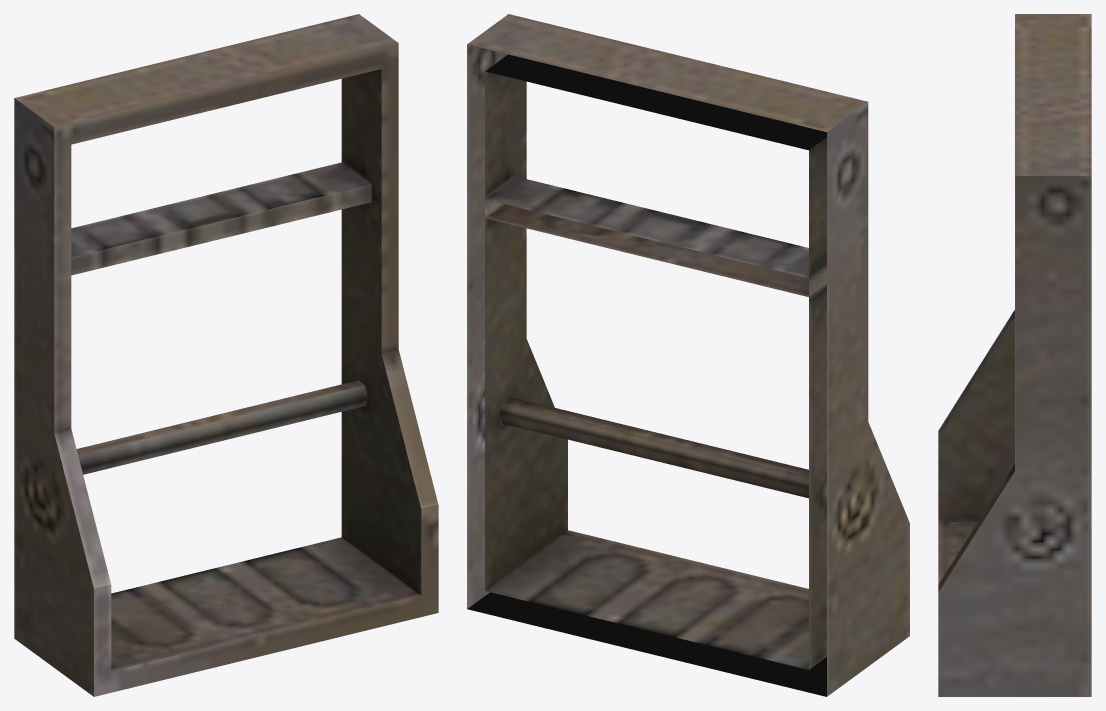
File: gun_rack.fbx
3 views of the same model, side by side, from view 1: azimuth 30°, elevation 25°; view 2: azimuth 150°, elevation 25°; view 3: azimuth 270°, elevation 25° (orthographic). The views are drawn at different scales.
Visible parts, largest first — view 1: mesh_0; view 2: mesh_0; view 3: mesh_0.
Part boxes in pixels (x1,y1,x2,y2): mesh_0: (14, 14, 438, 696); mesh_0: (467, 14, 909, 696); mesh_0: (938, 14, 1091, 696).
Bounding box in the file's own units: 50 × 75 × 20.
1 material, 1 textured.
